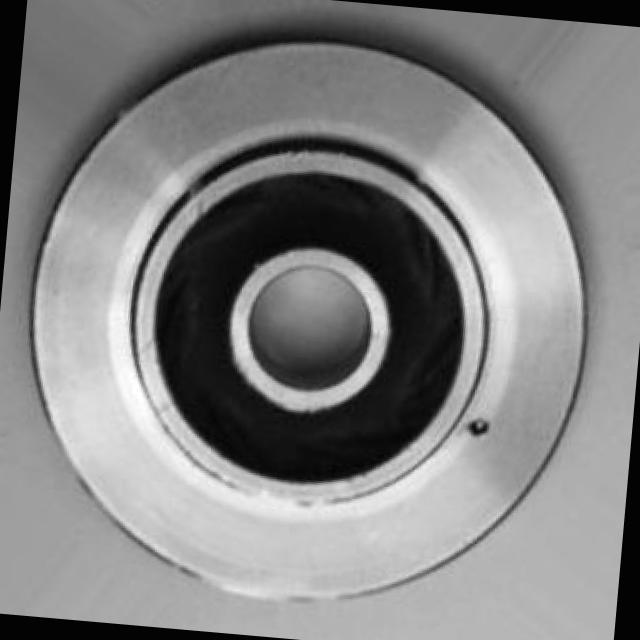Defect: (464, 406, 490, 444)
